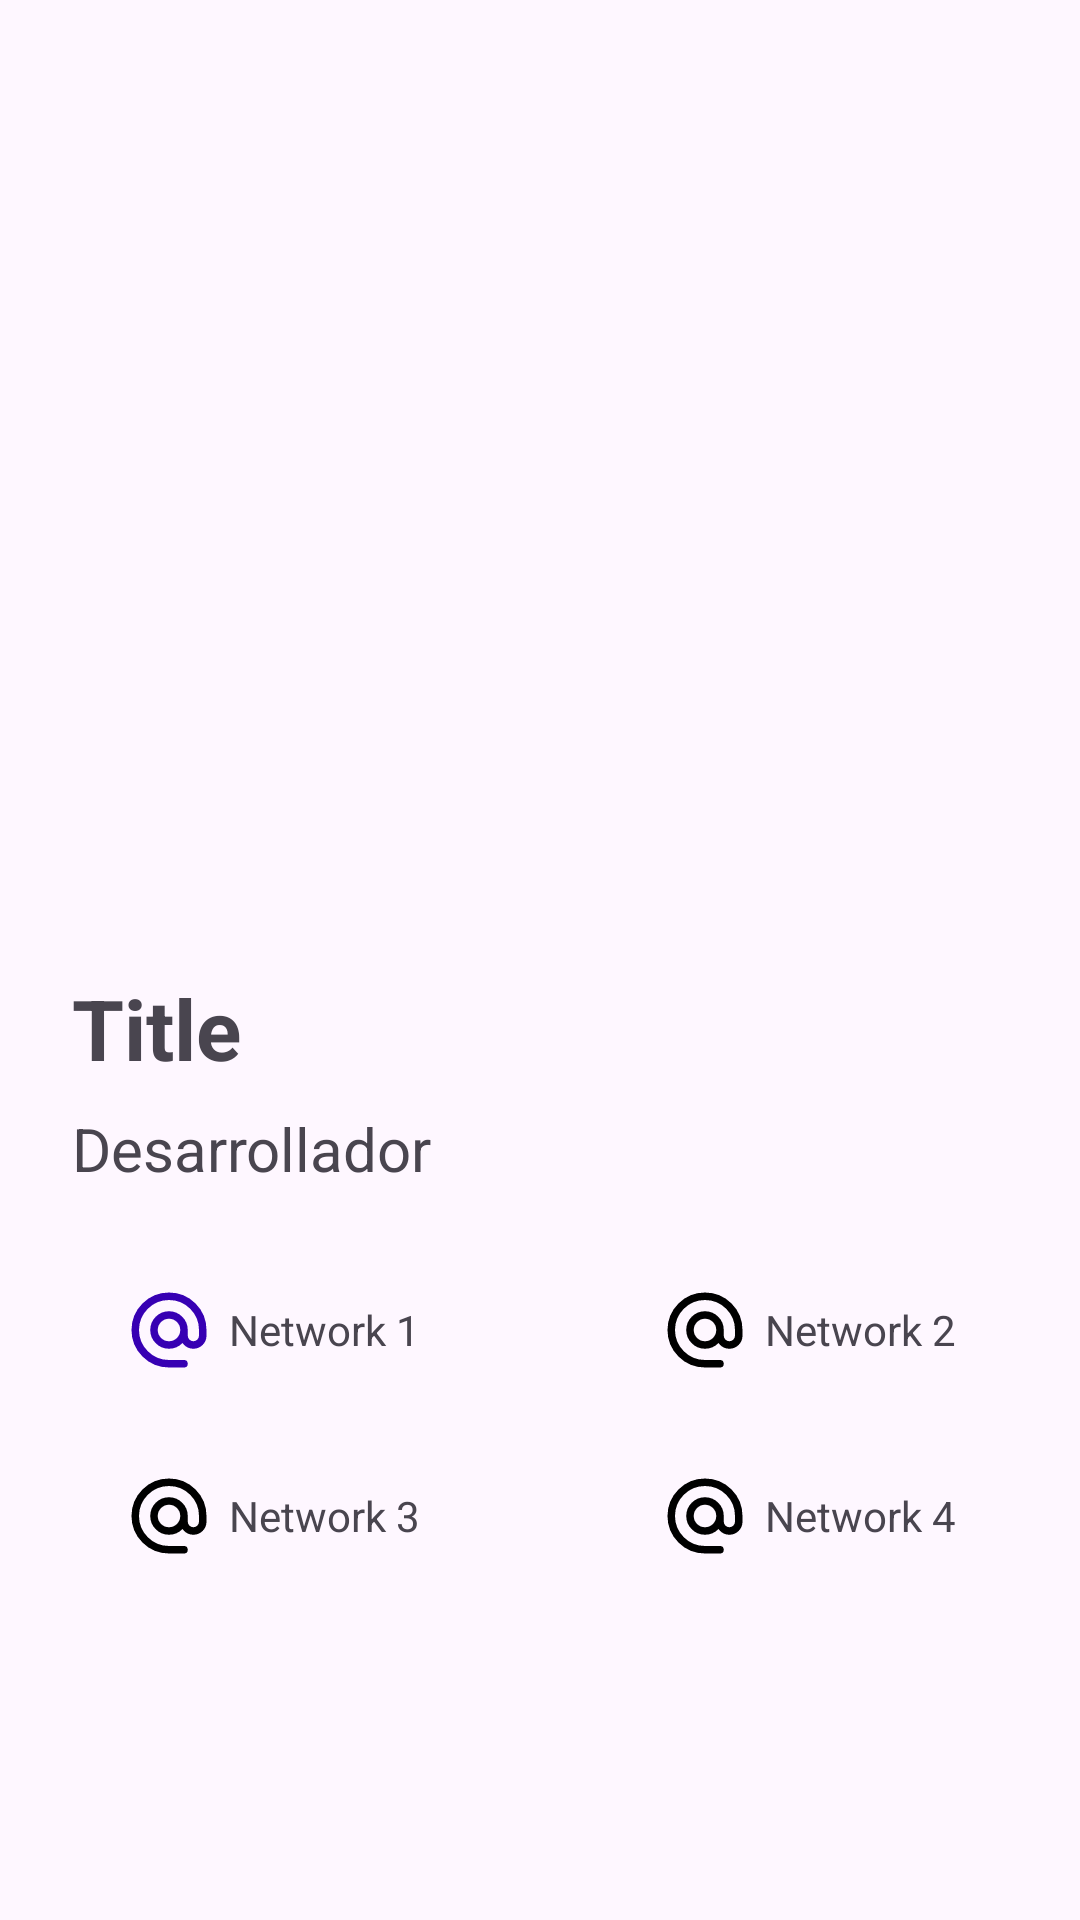

Named icons in this screenshot (1080w x 1920h) and their centers, (x=x, y=y):
email: (x=169, y=1330), (x=705, y=1330), (x=169, y=1516), (x=705, y=1516)
